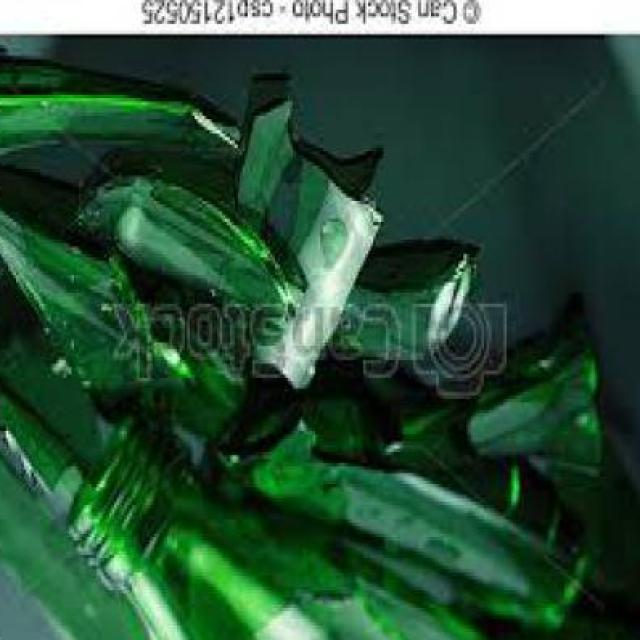kaca: (69, 420, 521, 640), (218, 399, 588, 637), (0, 154, 196, 416), (396, 402, 640, 608), (0, 370, 163, 640), (76, 169, 294, 346), (262, 162, 388, 396), (240, 84, 386, 284), (0, 63, 245, 173), (470, 310, 604, 472), (0, 286, 119, 466), (320, 242, 484, 366), (502, 594, 640, 640)
